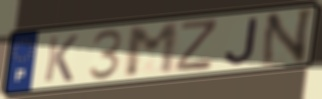3: (87, 28, 125, 82)
J: (223, 16, 260, 67)
K: (41, 33, 80, 85)
M: (125, 21, 181, 80)
N: (258, 6, 317, 69)
Z: (173, 17, 220, 73)
